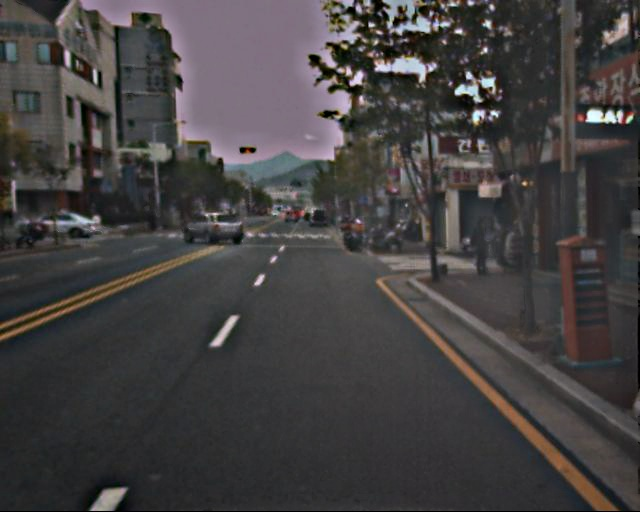person: (467, 218, 492, 279)
